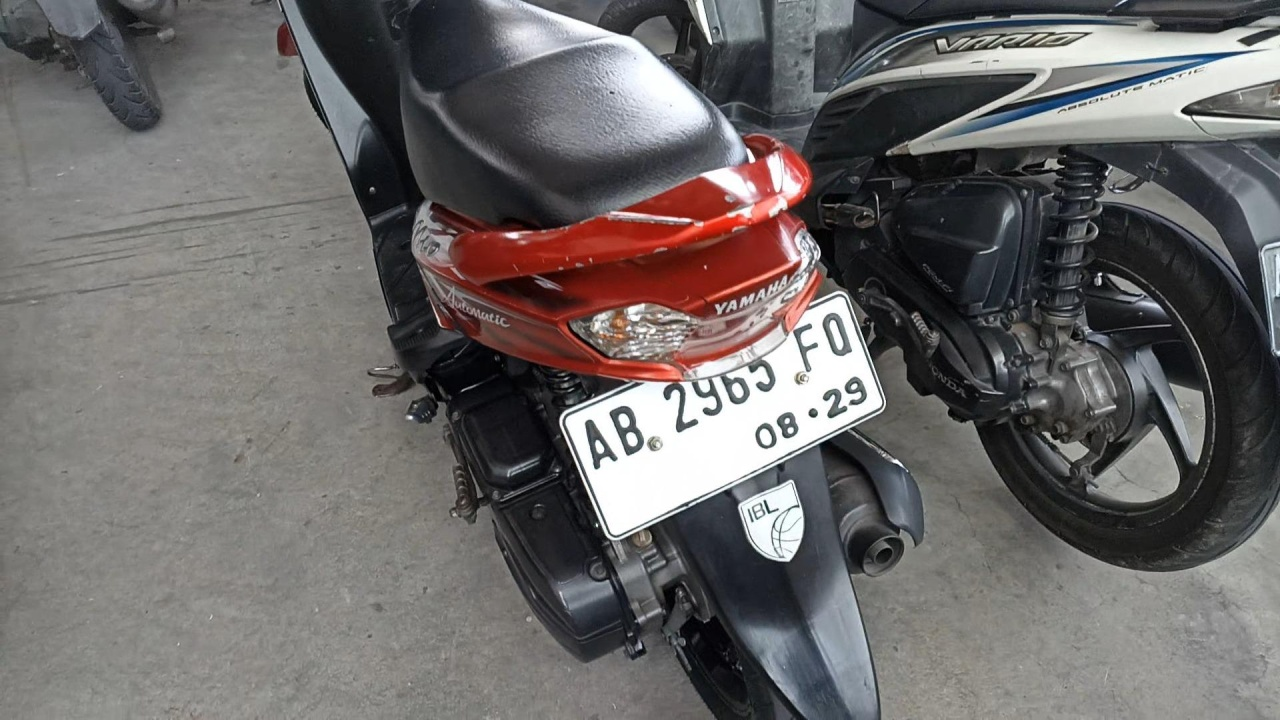plate: (558, 289, 888, 542)
